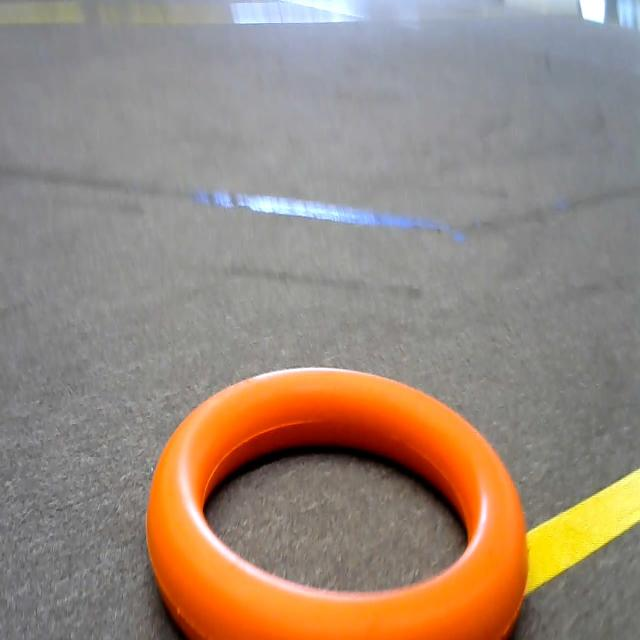note: (142, 362, 538, 640)
